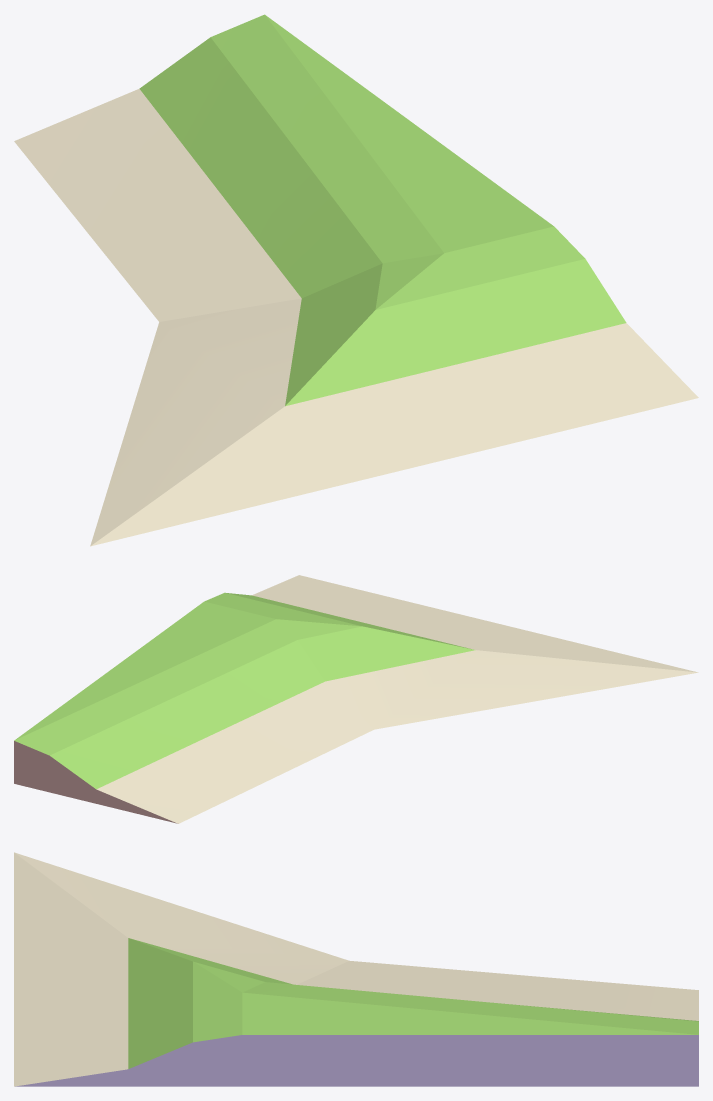
File: Path_Terrain_Y_Curve_Inner_2x3.fbx
3 views of the same model, one above another, from view 1: azimuth 30°, elevation 25°; view 2: azimuth 150°, elevation 25°; view 3: azimuth 270°, elevation 25° (orthographic). The views are drawn at different scales.
Visible parts, largest first — view 1: Path_Terrain_Y_Curve_Inner_2x3; view 2: Path_Terrain_Y_Curve_Inner_2x3; view 3: Path_Terrain_Y_Curve_Inner_2x3.
Part boxes in pixels (<box>): Path_Terrain_Y_Curve_Inner_2x3: <box>14,14,698,546</box>; Path_Terrain_Y_Curve_Inner_2x3: <box>14,575,698,823</box>; Path_Terrain_Y_Curve_Inner_2x3: <box>14,852,698,1086</box>.
Size of the model in its own units: 243 by 25 by 300.
